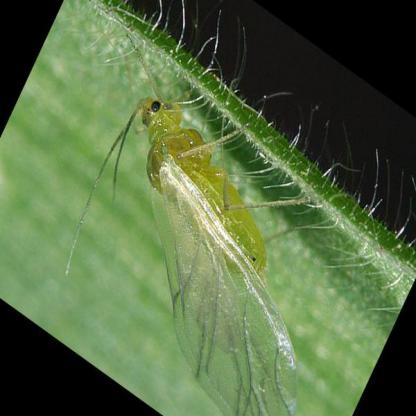schizaphis graminum: (139, 97, 299, 415)
